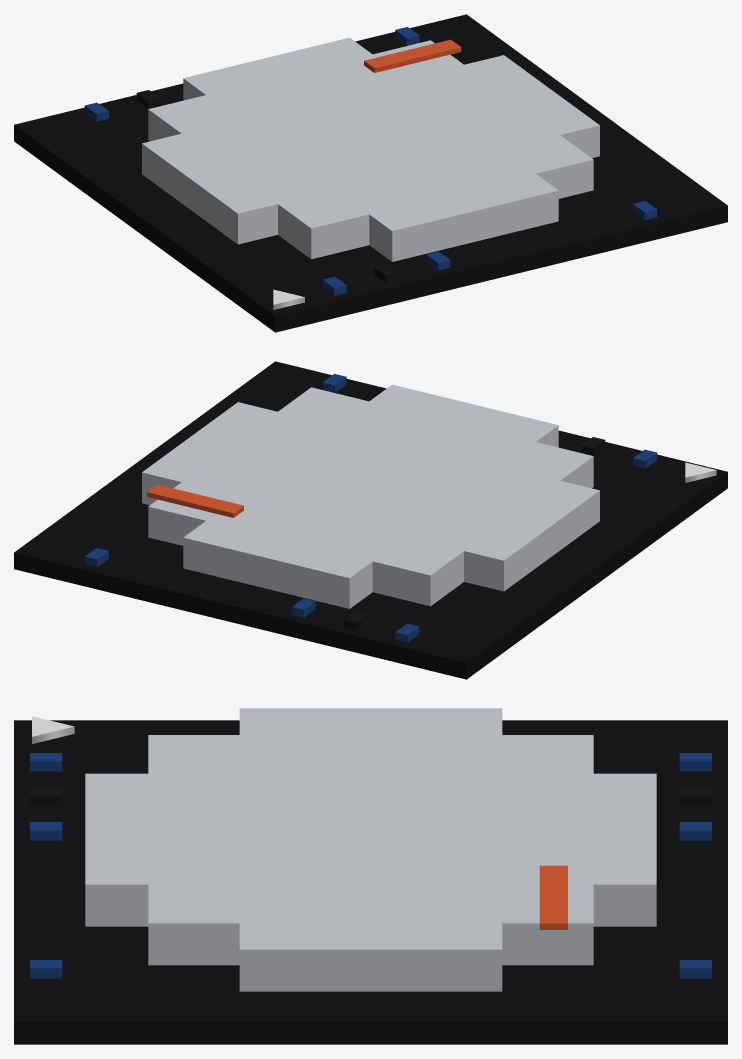
Rendered from hw_cpu_ryzen9_16c.glb.
3 renders of one model, top to bottom at view 1: azimuth 30°, elevation 25°; view 2: azimuth 150°, elevation 25°; view 3: azimuth 270°, elevation 25°, orthographic. The views are drawn at different scales.
Visible parts, largest first — view 1: Body; view 2: Body; view 3: Body.
Boxes of the visible parts, x1,y1,x2,y2 form: Body: (14,14,727,332); Body: (14,361,727,679); Body: (14,708,727,1044).
Size of the model in its own units: 0.04 by 0.00467 by 0.04.
